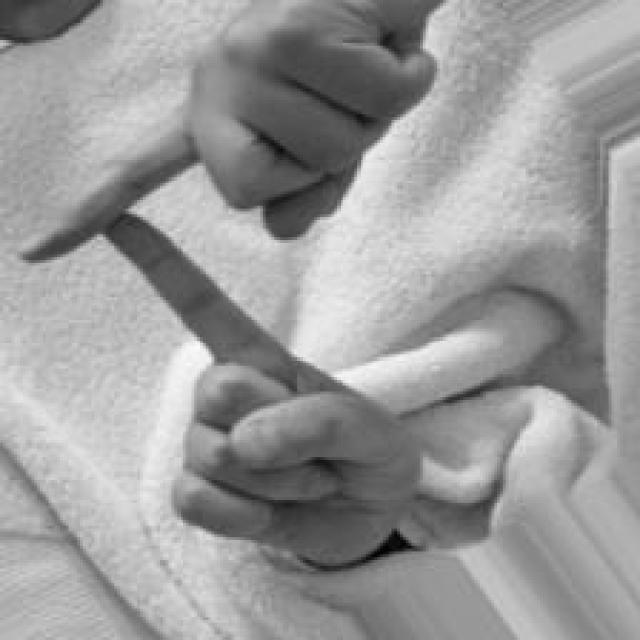T: (16, 3, 453, 569)
